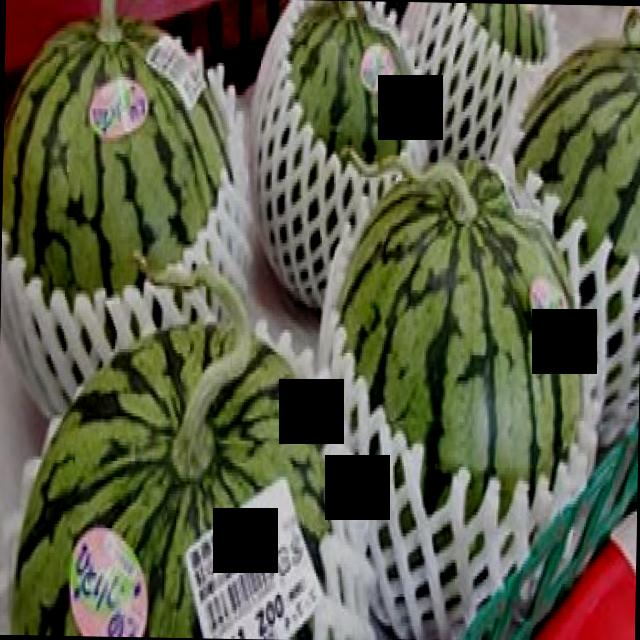watermelon: (9, 293, 333, 640), (337, 159, 584, 509), (11, 6, 229, 300), (510, 12, 640, 456), (288, 3, 417, 173)
